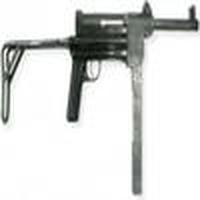gun: (1, 10, 199, 127)
